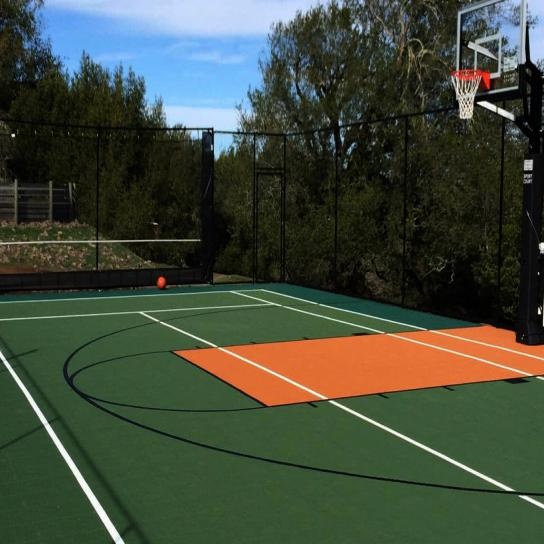basketball-hoop: (448, 68, 482, 120)
